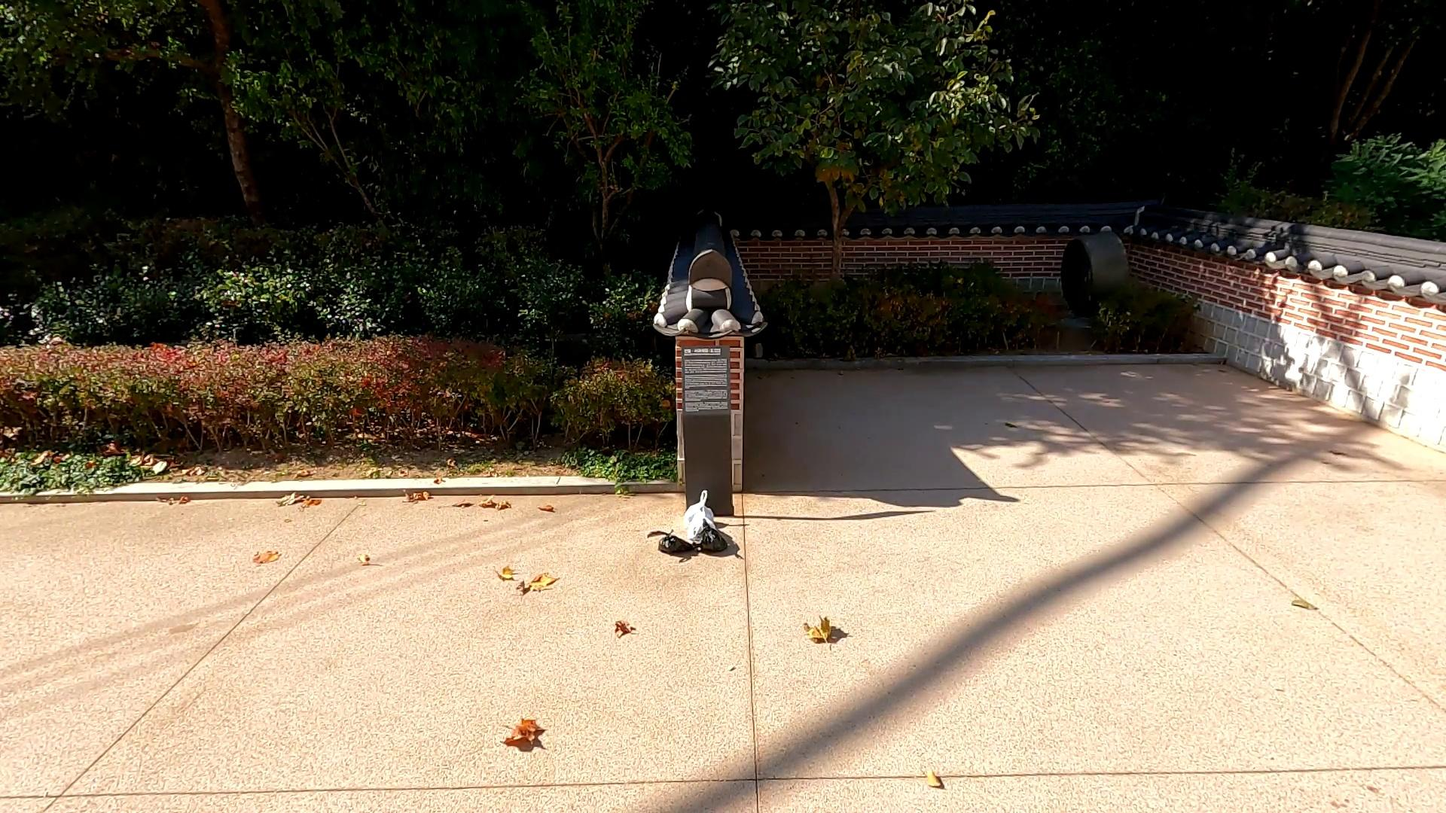trash: (677, 502, 728, 542), (644, 528, 696, 558), (688, 517, 732, 552), (680, 492, 716, 532)
